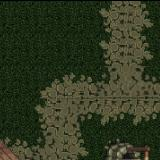Hide: (87, 120, 159, 160)
